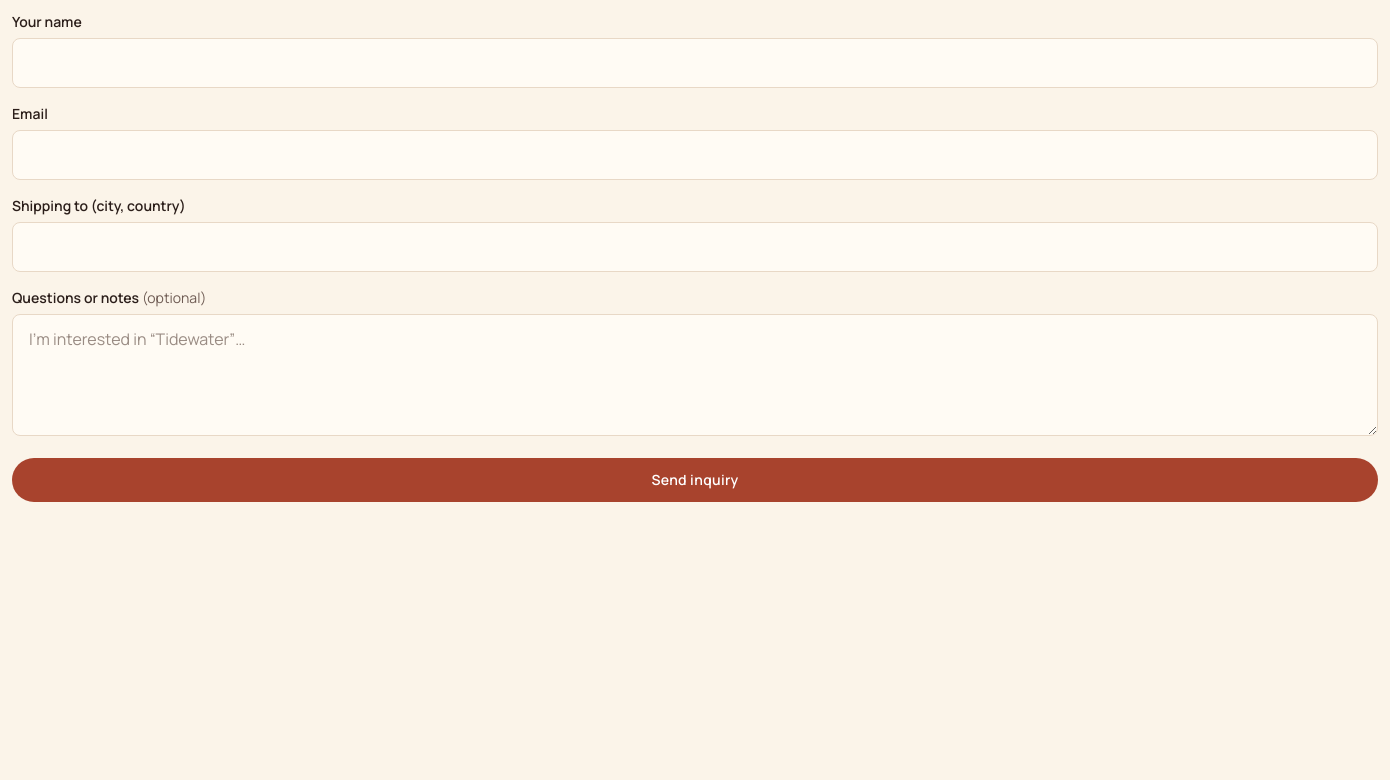
Test: InquiryForm › highlights field errors and keeps what was typed
This screenshot has width=1390, height=780.
Step 1. Click the button "Send inquiry" → coordinates (695, 480), box left=12, top=458, right=1378, bottom=502
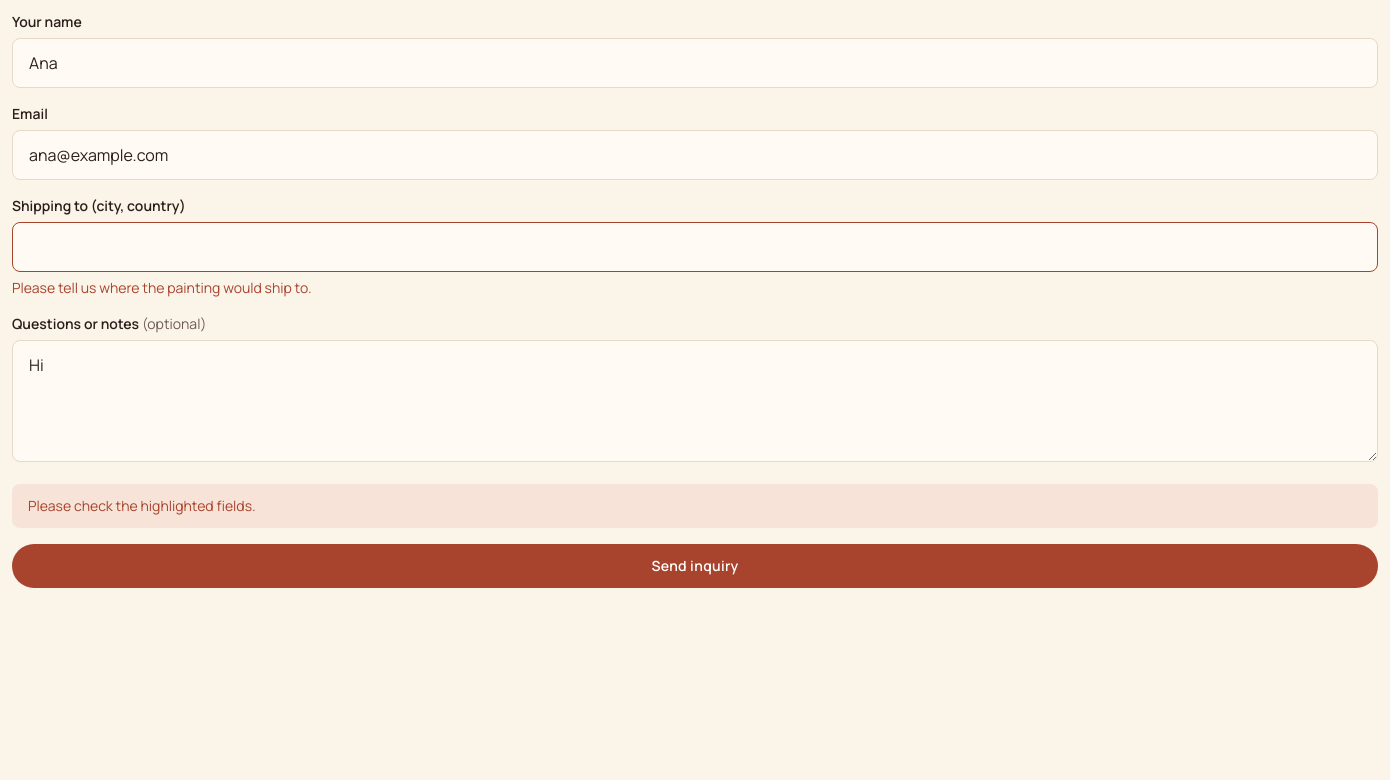
Expected: the message reads "Please check the highlighted fields.", left=28, top=496, right=256, bottom=515
Expected: the field labelled "Your name" holds "Ana", left=12, top=38, right=1378, bottom=88
Expected: the field labelled "Email" holds "ana@example.com", left=12, top=130, right=1378, bottom=180
